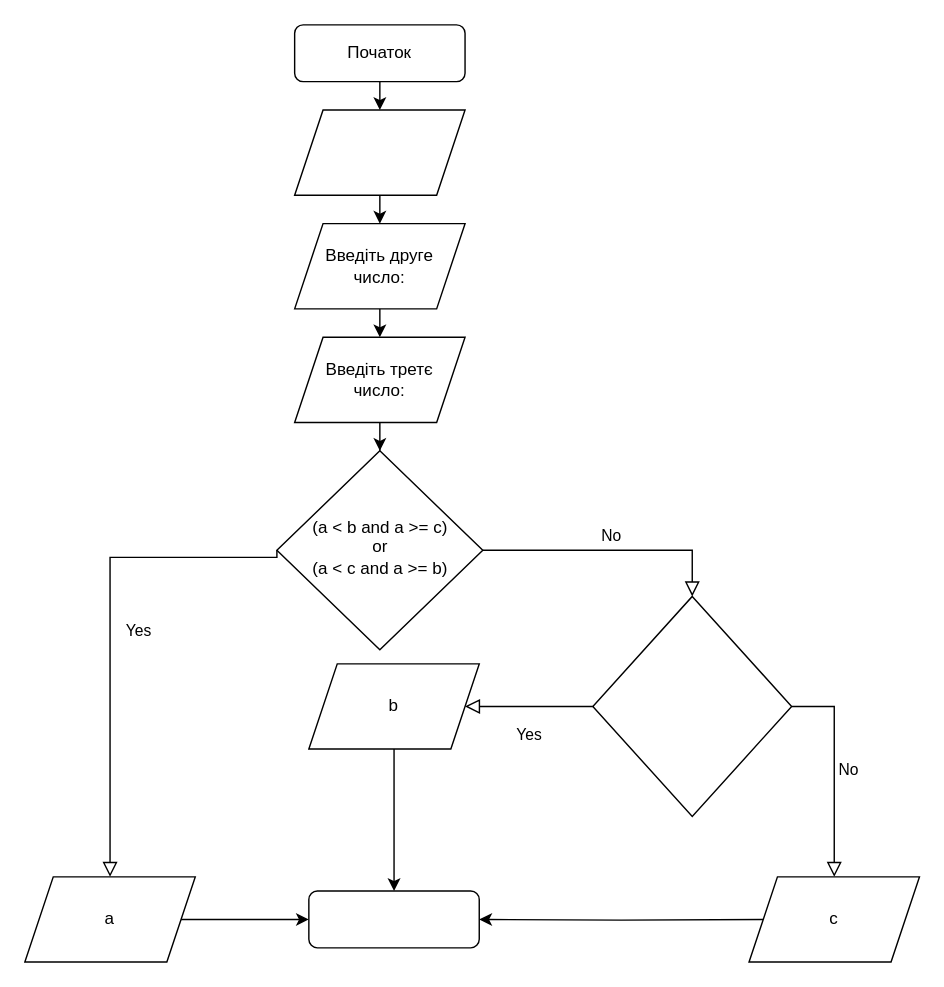
The diagram is 944 pixels wide and 987 high, and some of its shapes have lost their labels. The centre of each missing label's shape, as x and y in pixels:
(b < a and b >= c) or (b < c and b >= a): [691,705]
Введіть перше число:: [379,152]
Кінець: [393,919]
